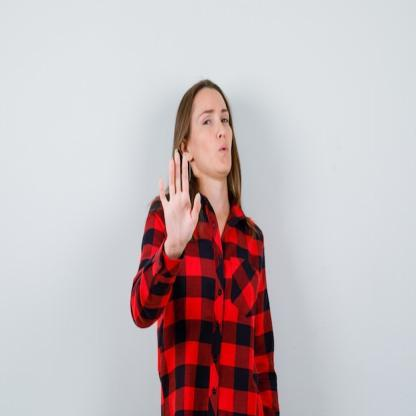stop: (155, 147, 204, 258)
